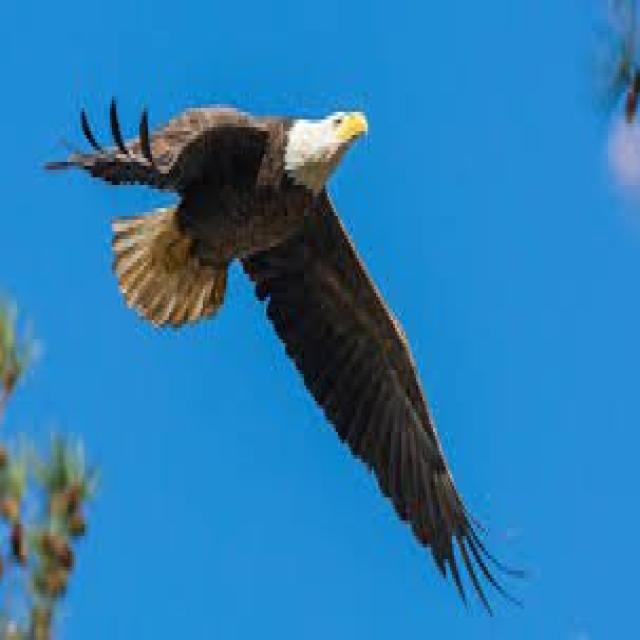Eagle: (51, 99, 542, 614)
